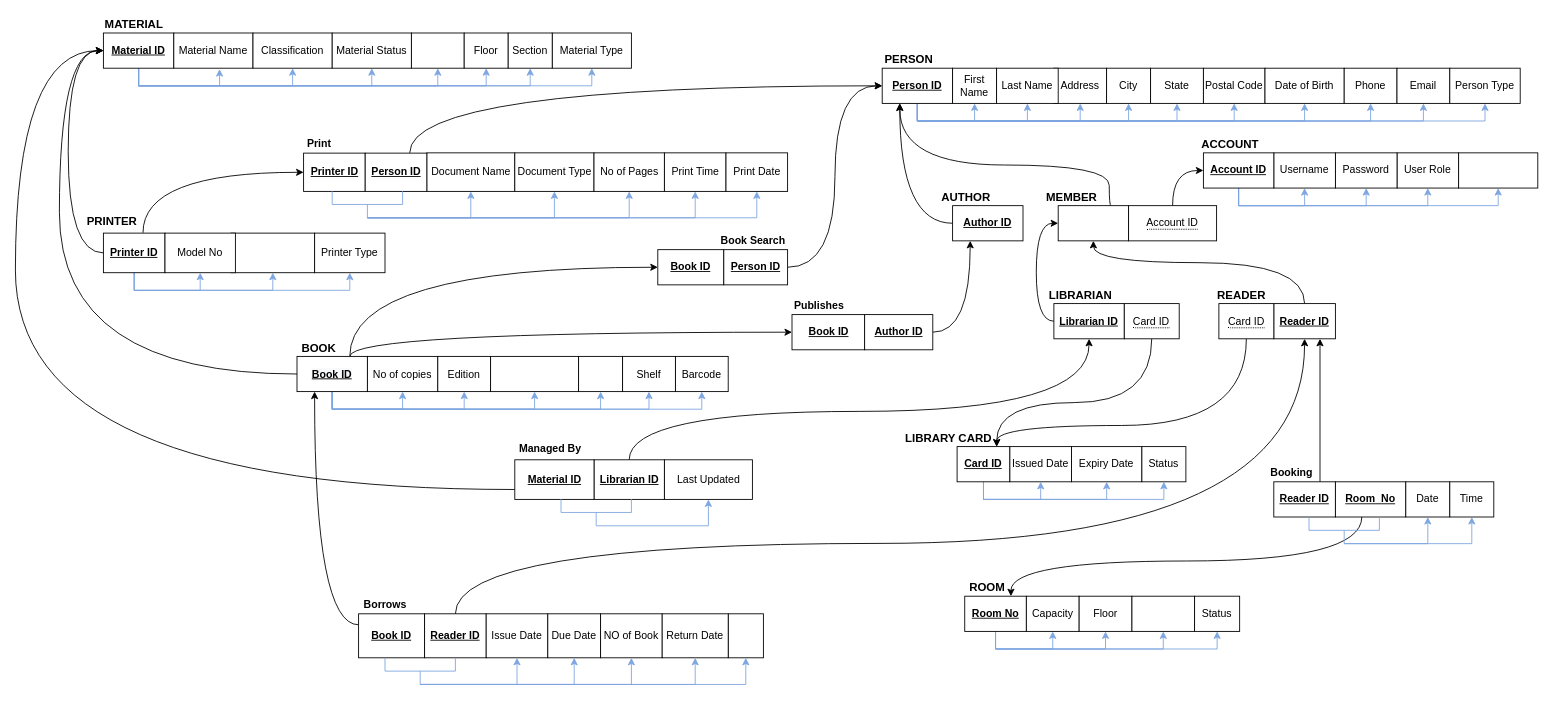
The diagram is 1553 pixels wide and 707 high, and some of its shapes have lost their labels. Each missing label, with the centre of its shape:
Account Status: pixel 1498 170
Fine: pixel 745 635
Manufacturer: pixel 272 252
Member ID: pixel 1093 223
Price: pixel 437 50
Publication Date: pixel 534 374
Rack: pixel 600 374
Room Type: pixel 1163 613
